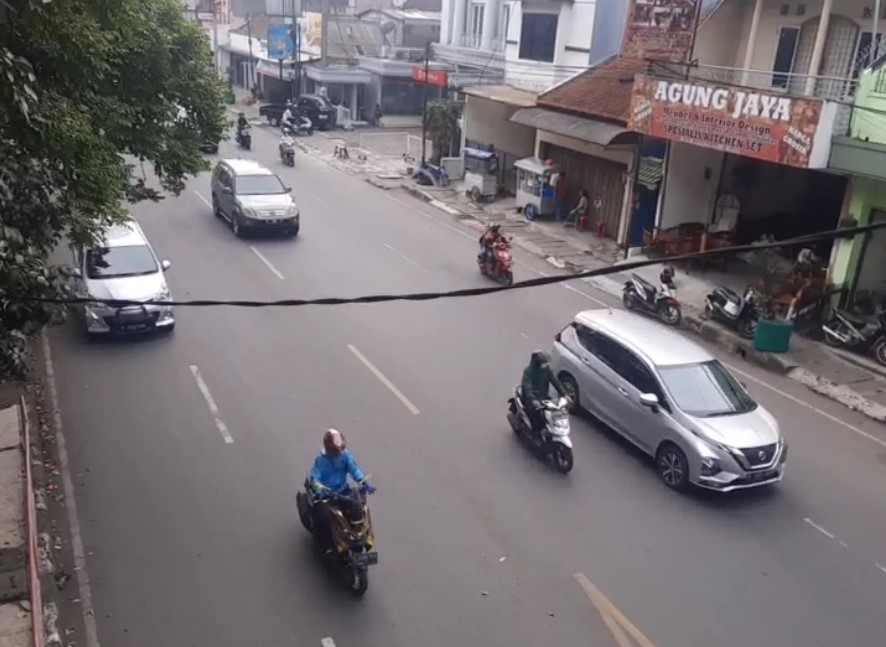mobil: (565, 306, 791, 491), (61, 212, 184, 343), (216, 150, 296, 243)
motor: (295, 428, 386, 599), (504, 355, 574, 480), (474, 224, 521, 287)
